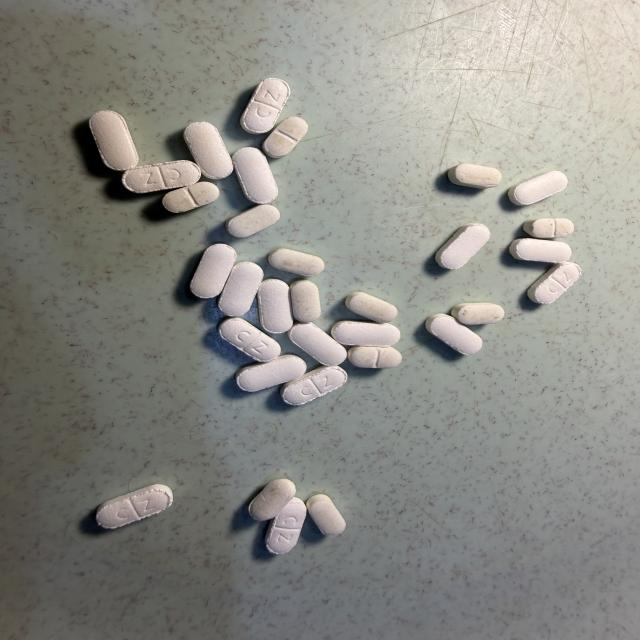pill: (96, 484, 172, 528), (90, 111, 138, 170), (184, 122, 233, 179), (218, 317, 280, 362), (241, 78, 290, 134), (280, 366, 347, 405), (122, 160, 201, 193), (236, 355, 306, 391), (233, 147, 278, 203), (288, 323, 346, 365), (191, 244, 236, 298), (218, 262, 263, 316), (436, 224, 490, 269), (265, 498, 306, 554), (426, 314, 482, 354), (528, 263, 581, 303), (508, 171, 567, 205), (257, 279, 293, 333), (249, 479, 295, 520), (263, 117, 308, 158), (163, 182, 219, 213), (331, 321, 400, 346), (226, 205, 279, 237), (307, 495, 346, 535), (345, 292, 397, 322), (509, 238, 571, 263), (269, 249, 324, 276), (290, 280, 321, 322), (448, 164, 501, 188), (348, 346, 401, 368), (451, 303, 504, 324), (523, 219, 574, 238)
